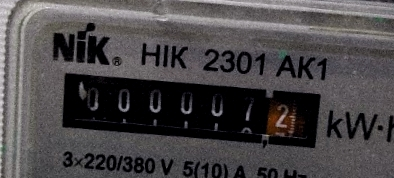0: (81, 82, 101, 111), (144, 84, 163, 114), (175, 87, 195, 115), (207, 89, 225, 119), (113, 84, 132, 112)
2: (271, 101, 290, 129)
7: (238, 91, 256, 123)
screen: (46, 58, 332, 160)
